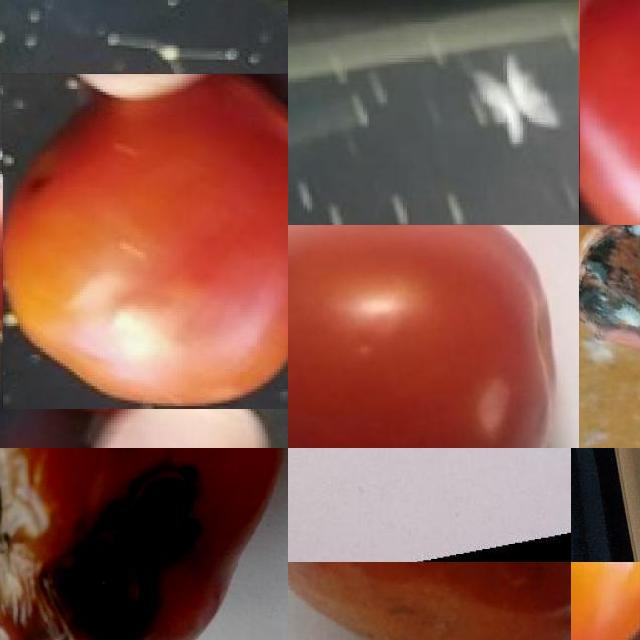1: (2, 73, 288, 409)
Fresh Tomato: (288, 225, 579, 448), (571, 562, 640, 640)
Rotten Tomato: (0, 448, 288, 640), (288, 562, 571, 640), (579, 225, 640, 448)
